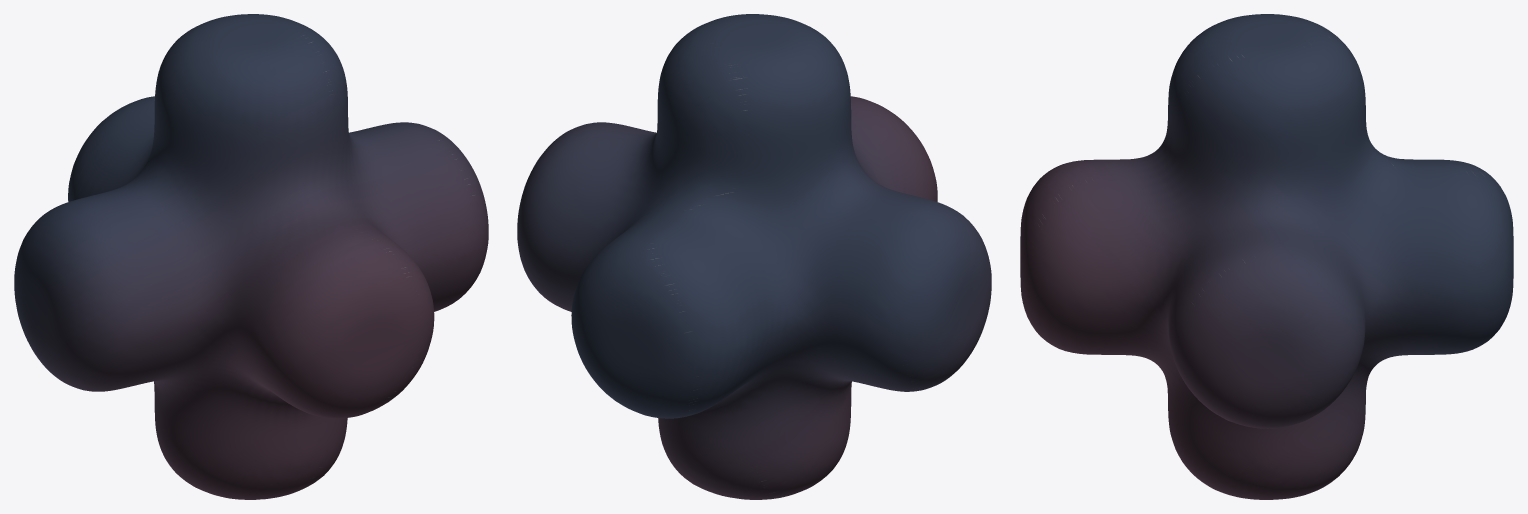
Rendered from 08_pluff_inactive.glb.
The picture shows the model from 3 angles, left to right: view 1: azimuth 30°, elevation 25°; view 2: azimuth 150°, elevation 25°; view 3: azimuth 270°, elevation 25°; orthographic projection.
Parts seen in each view (by area): view 1: inactive; view 2: inactive; view 3: inactive.
Part boxes in pixels (<box>): inactive: <box>14,14,488,499</box>; inactive: <box>517,14,991,499</box>; inactive: <box>1020,14,1513,499</box>.
Size of the model in its own units: 0.1297 by 0.1298 by 0.1297.
Materials: 1 (1 with a texture image).
